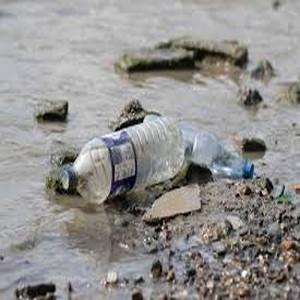Plastic: (59, 114, 185, 205), (175, 117, 259, 183)
